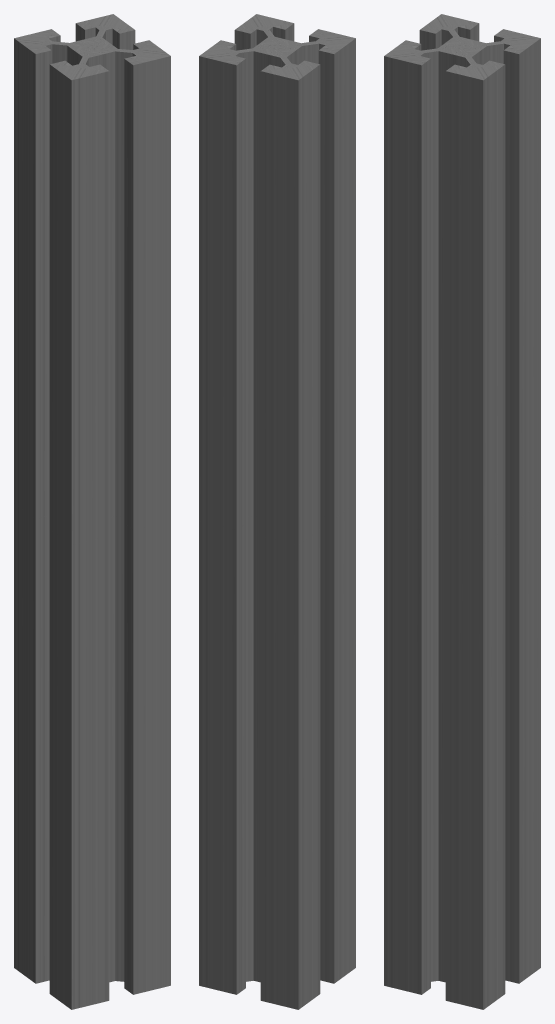
The model's file is stick.glb.
The picture shows the model from 3 angles, left to right: view 1: azimuth 30°, elevation 25°; view 2: azimuth 150°, elevation 25°; view 3: azimuth 330°, elevation 25°; orthographic projection.
Parts seen in each view (by area): view 1: Curve.003; view 2: Curve.003; view 3: Curve.003.
Part boxes in pixels (box(x1,y1,x2,y2)): Curve.003: box(14, 14, 170, 1009); Curve.003: box(199, 14, 355, 1009); Curve.003: box(384, 14, 540, 1009).
Bounding box in the file's own units: 0.2816 × 2.51 × 0.2821.
1 material, 1 textured.
